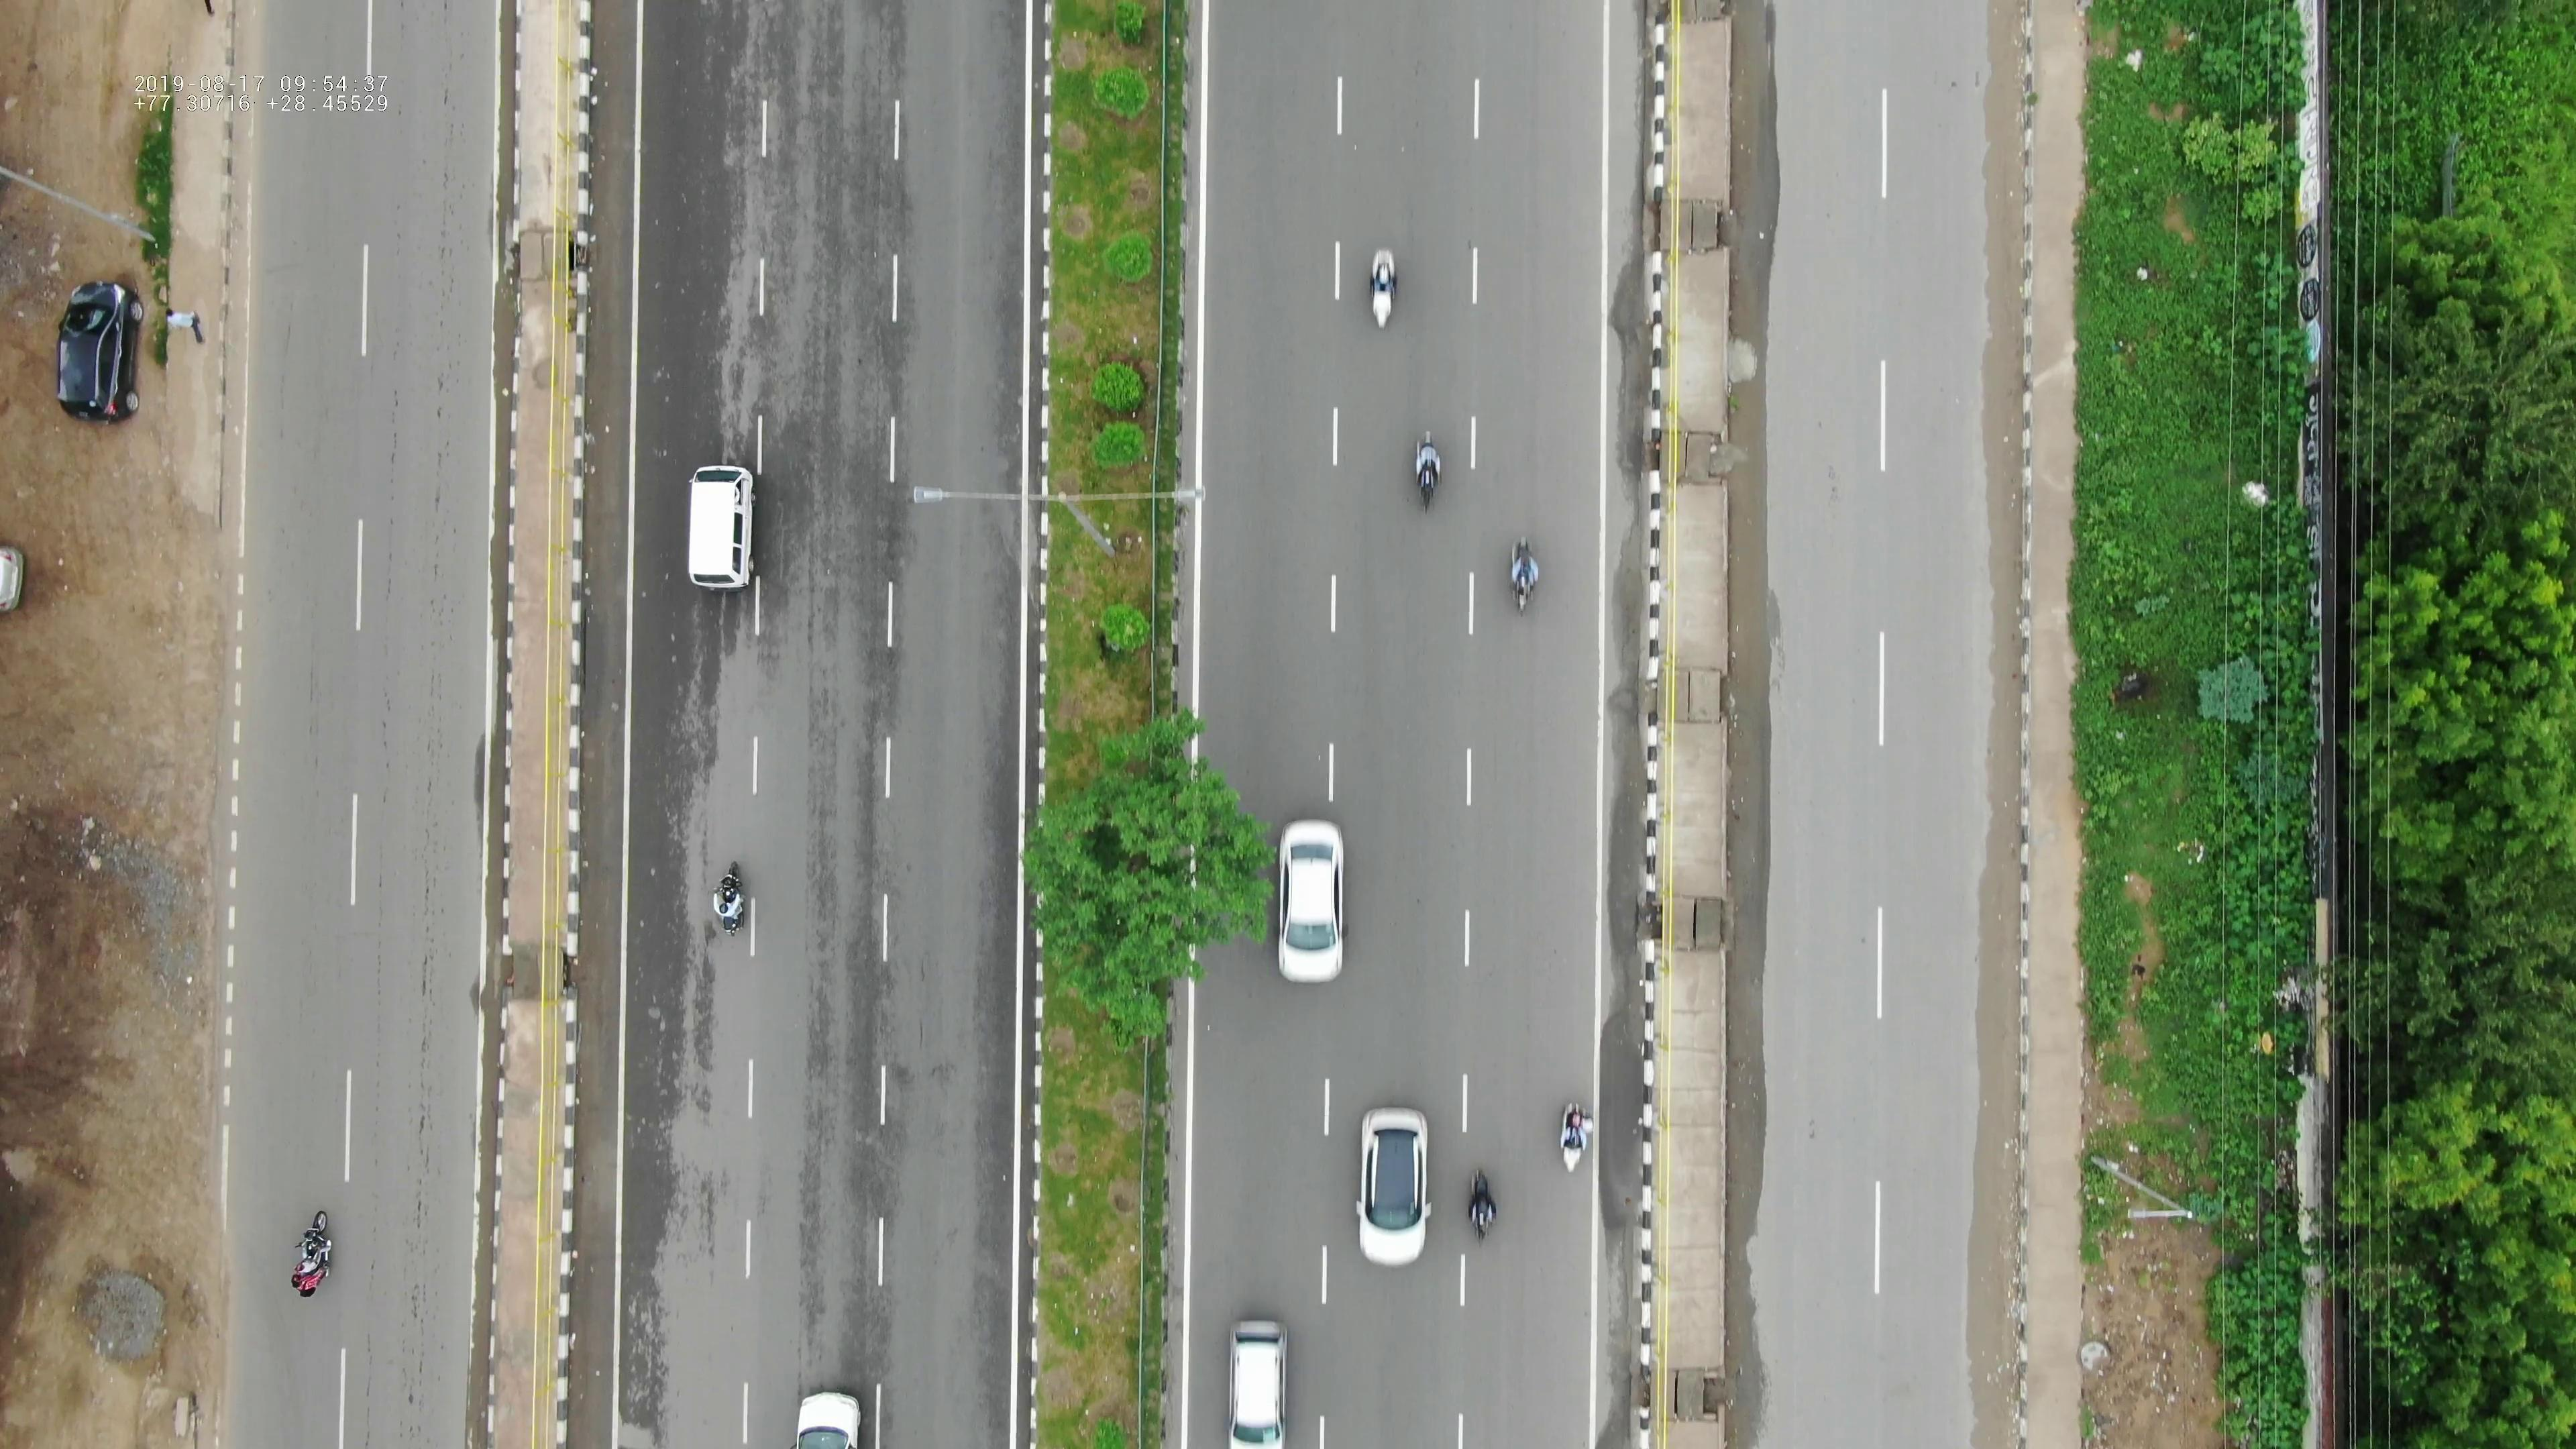Muddy_road: (1969, 869, 2024, 1389), (1983, 5, 2036, 487), (172, 547, 246, 878), (221, 195, 260, 428)
